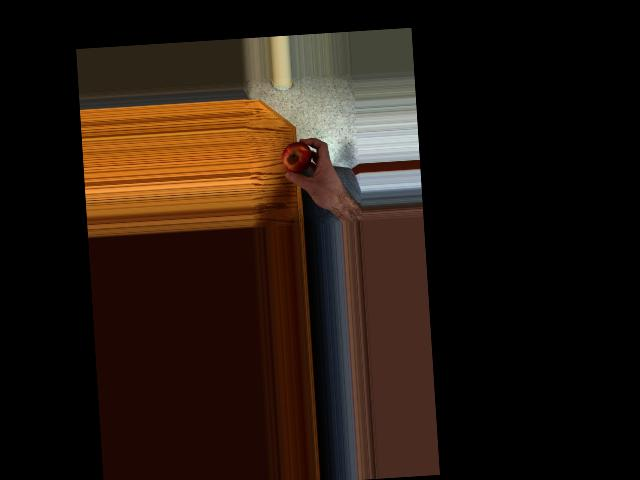apple: (279, 138, 318, 182)
